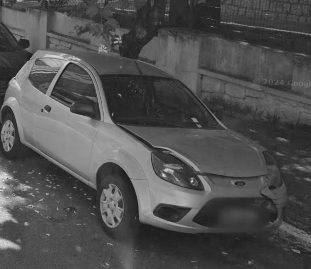car: (1, 49, 286, 247)
